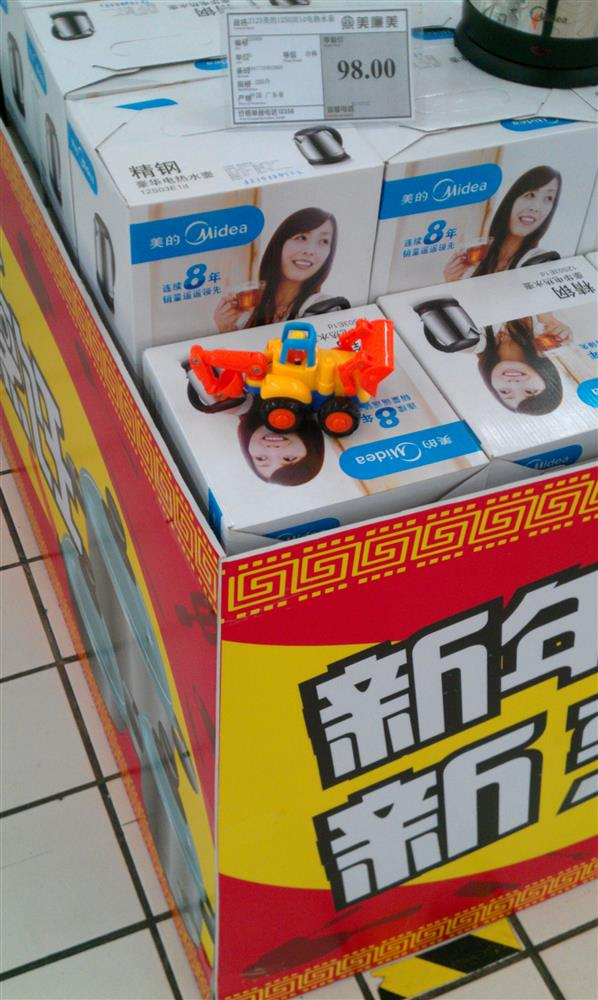navvy: (177, 299, 398, 442)
